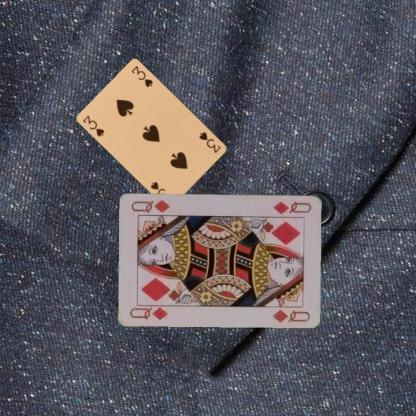3s: (80, 113, 106, 138), (197, 130, 222, 154)
Qd: (127, 302, 172, 320), (271, 198, 313, 216)
